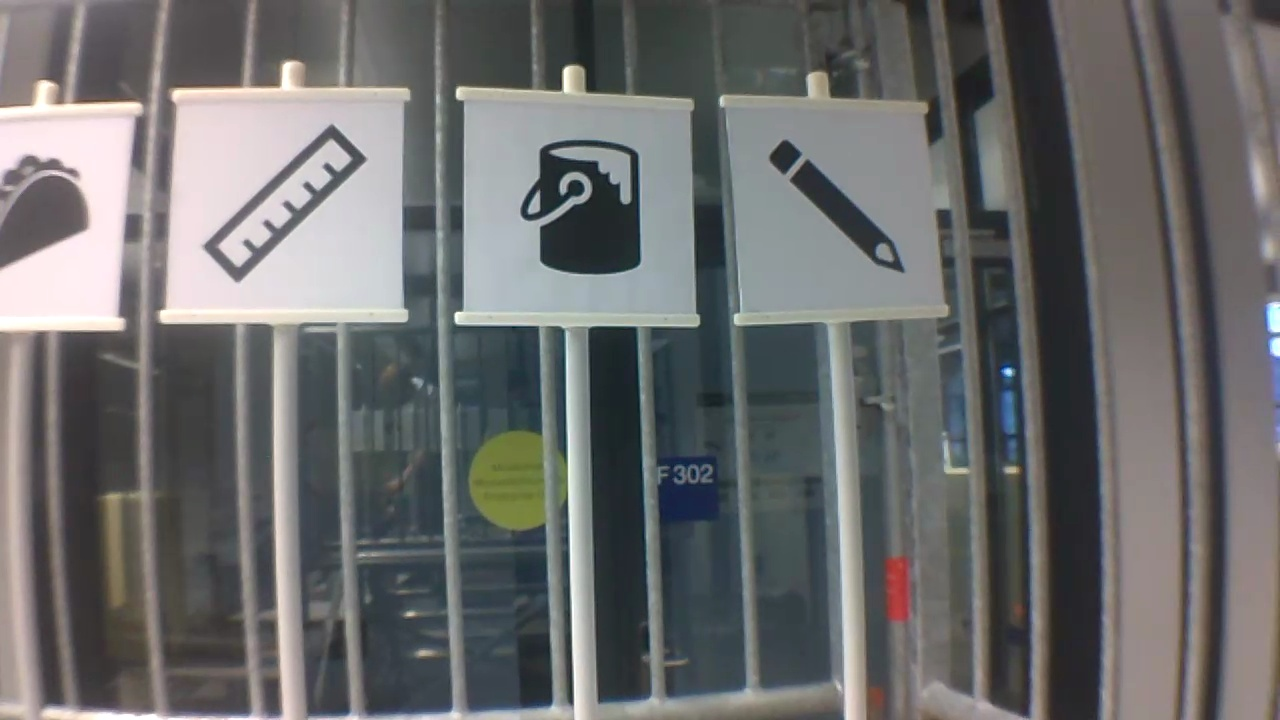bucket: (515, 135, 646, 278)
pencil: (755, 135, 911, 281)
ruler: (192, 119, 374, 288)
taco: (2, 148, 97, 278)
